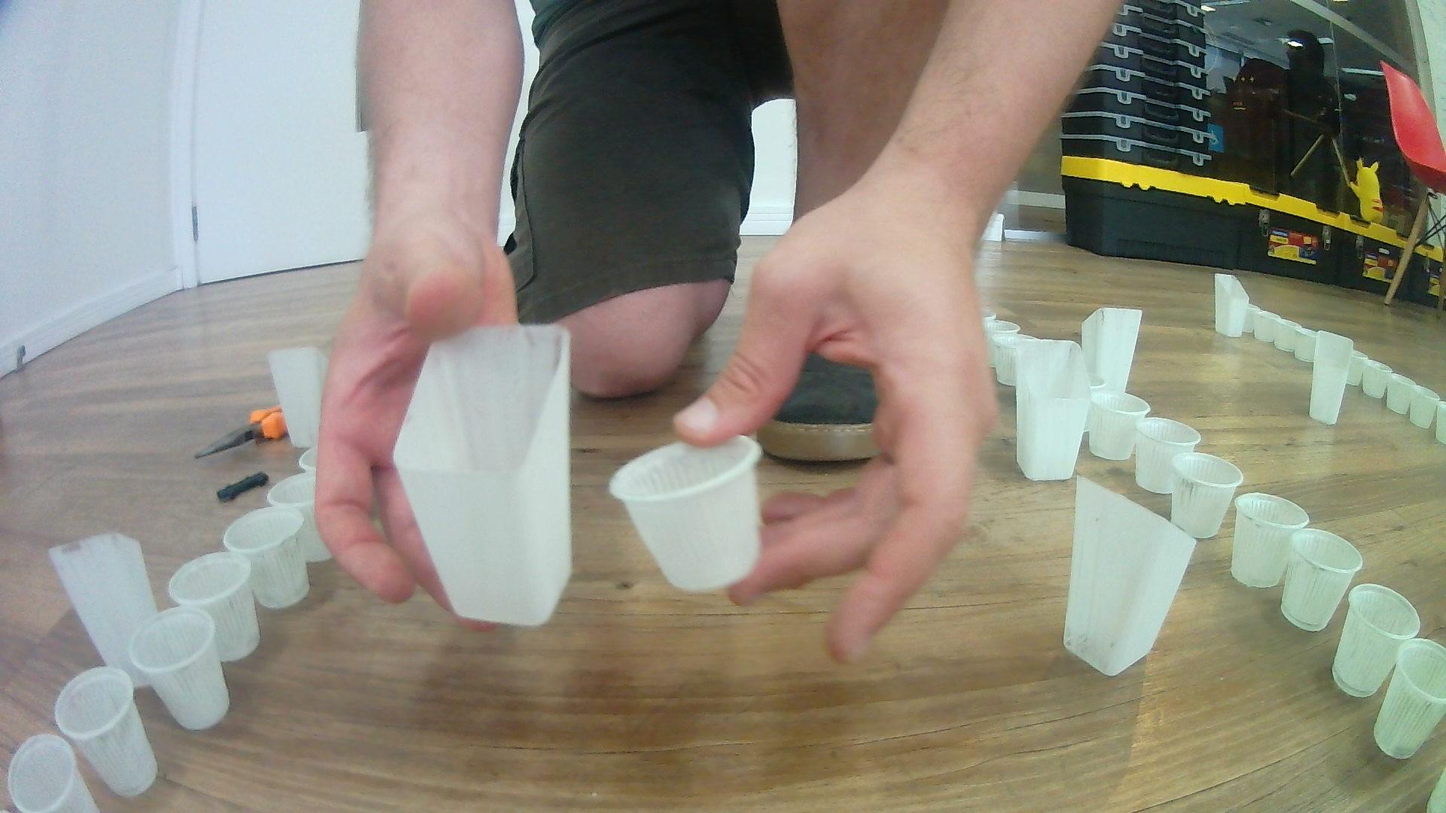erva_daninha: (390, 321, 573, 630), (1062, 473, 1199, 678), (49, 531, 163, 687), (1013, 338, 1093, 483), (267, 346, 326, 449), (1080, 307, 1143, 397), (1309, 330, 1355, 425), (1213, 273, 1249, 338)
planta: (609, 433, 764, 595), (53, 665, 159, 798), (124, 605, 231, 731), (168, 551, 261, 665), (1331, 583, 1422, 698), (221, 505, 311, 610), (1280, 527, 1365, 633), (1373, 637, 1446, 760), (7, 732, 104, 813), (1231, 491, 1310, 589), (1170, 452, 1245, 540), (266, 473, 334, 564), (1134, 416, 1202, 495), (1087, 392, 1152, 461), (990, 333, 1040, 387), (983, 320, 1021, 364), (1408, 386, 1440, 429), (1386, 373, 1417, 415), (1243, 305, 1275, 343), (1363, 361, 1393, 399), (1292, 327, 1318, 362), (1271, 319, 1298, 352), (1343, 351, 1366, 386), (299, 447, 319, 475), (1435, 400, 1446, 444), (1088, 373, 1106, 393), (981, 311, 998, 330)
